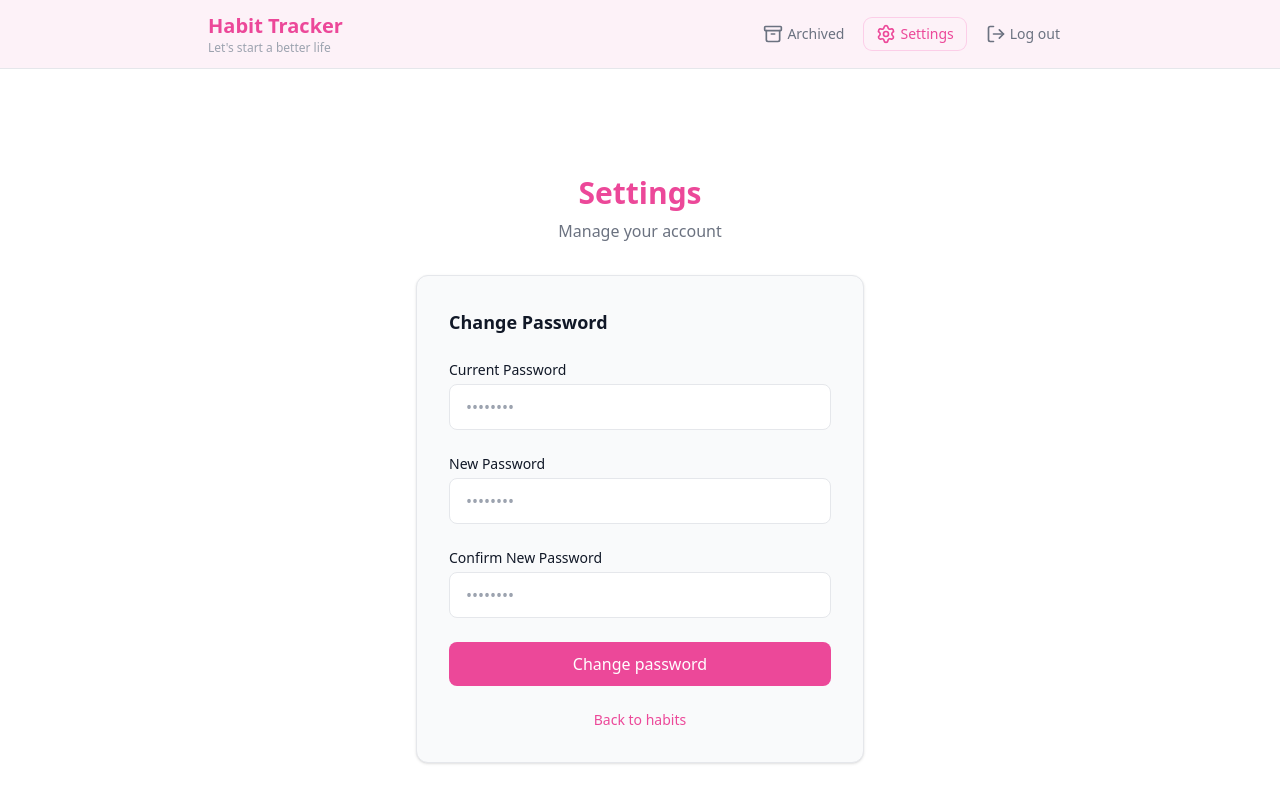
Test case: SettingsPage › shows current-password error on 401 INVALID_CURRENT_PASSWORD
Type "WrongPass1" into the password field labelled "Current Password" at coordinates (640, 407), box [449,384,831,430]
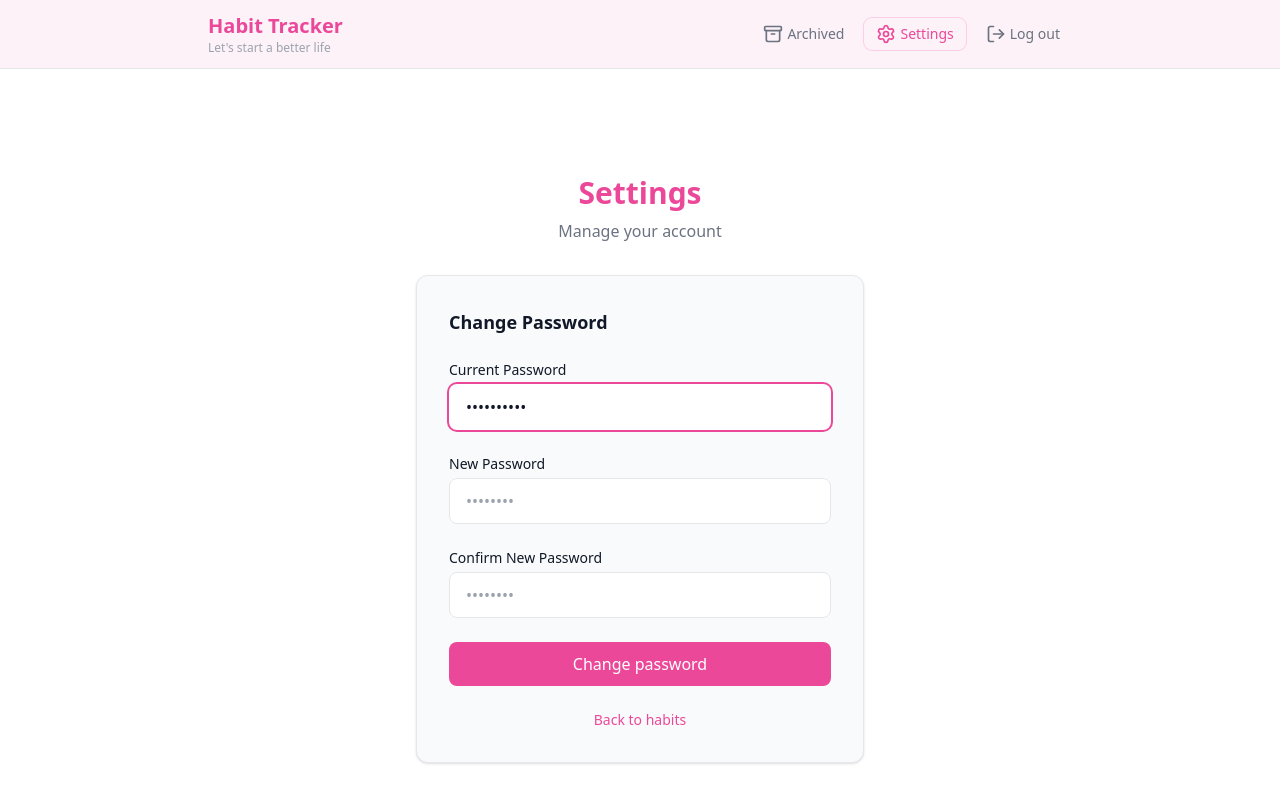
Type "NewSecure1" into the password field labelled "New Password" at coordinates (640, 501), box [449,478,831,524]
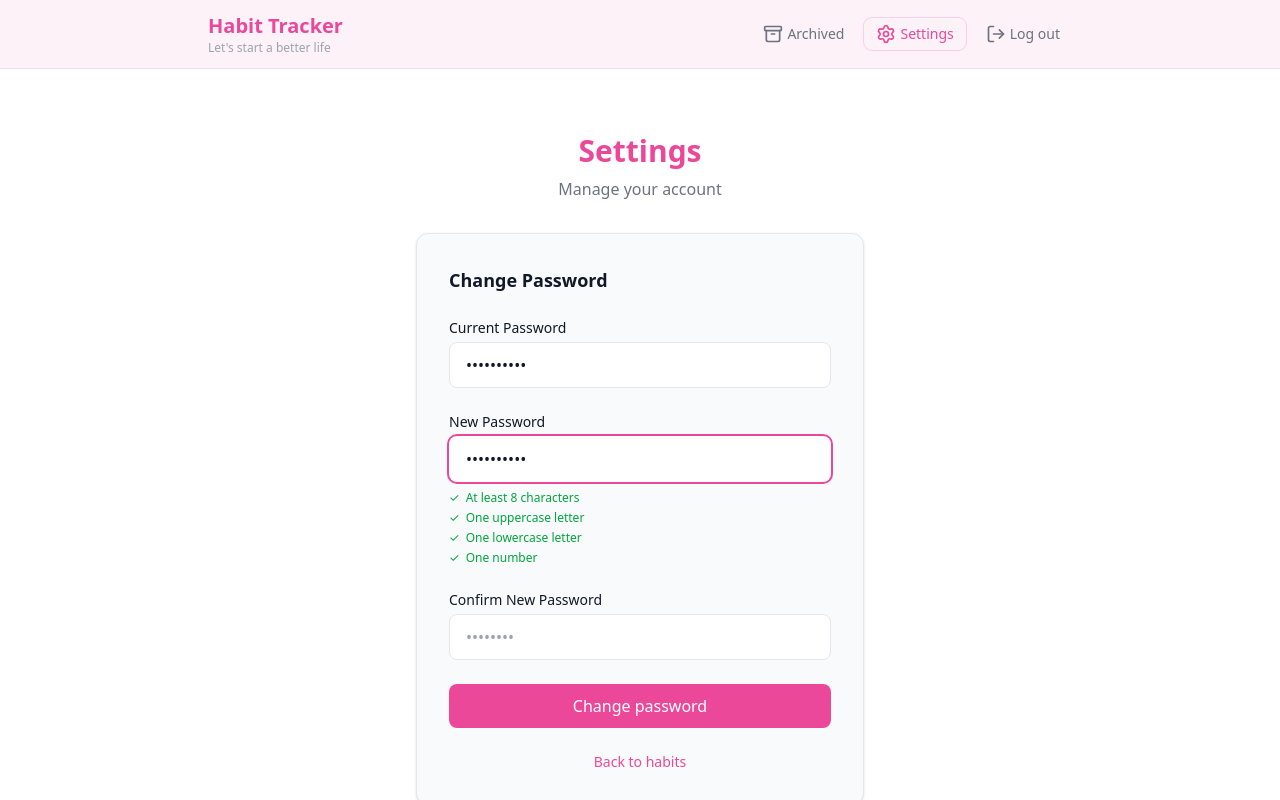
Type "NewSecure1" into the password field labelled "Confirm New Password" at coordinates (640, 637), box [449,614,831,660]
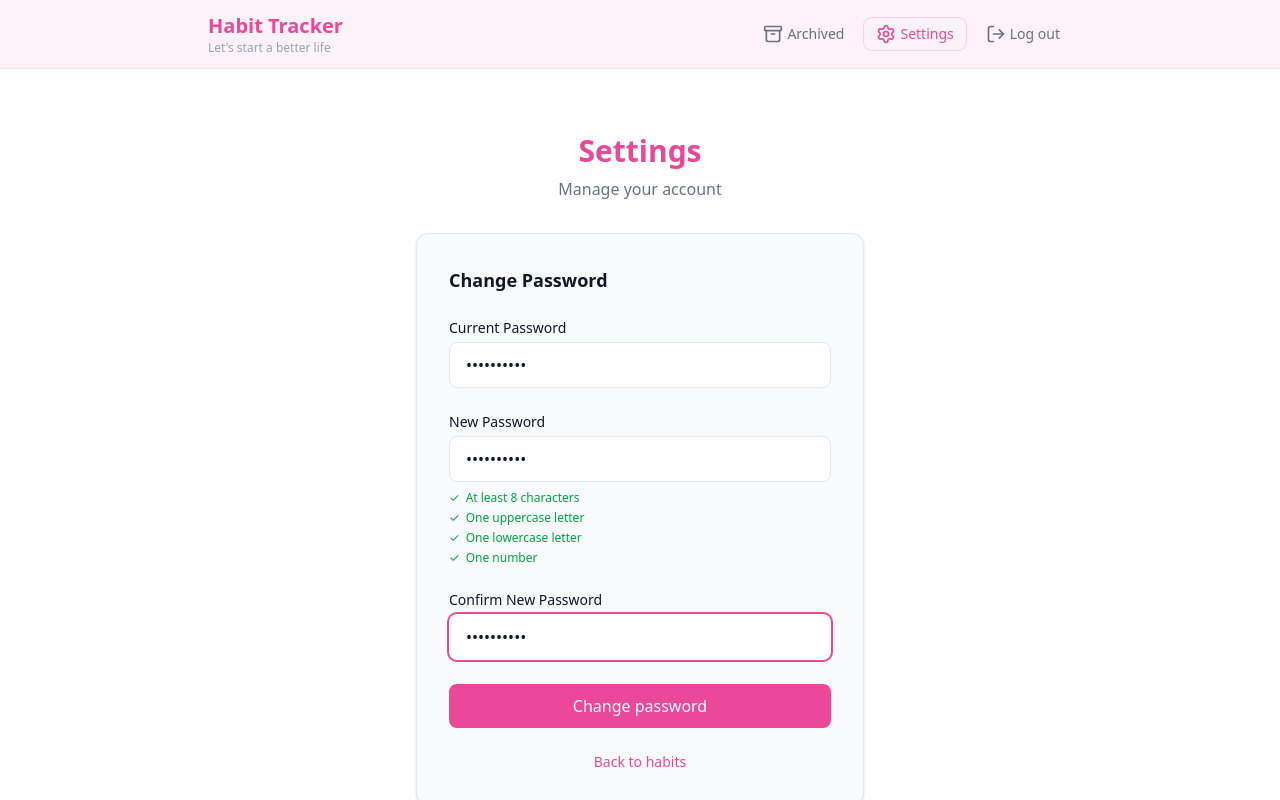
Click the button "Change password" at coordinates (640, 706), box [449,684,831,728]
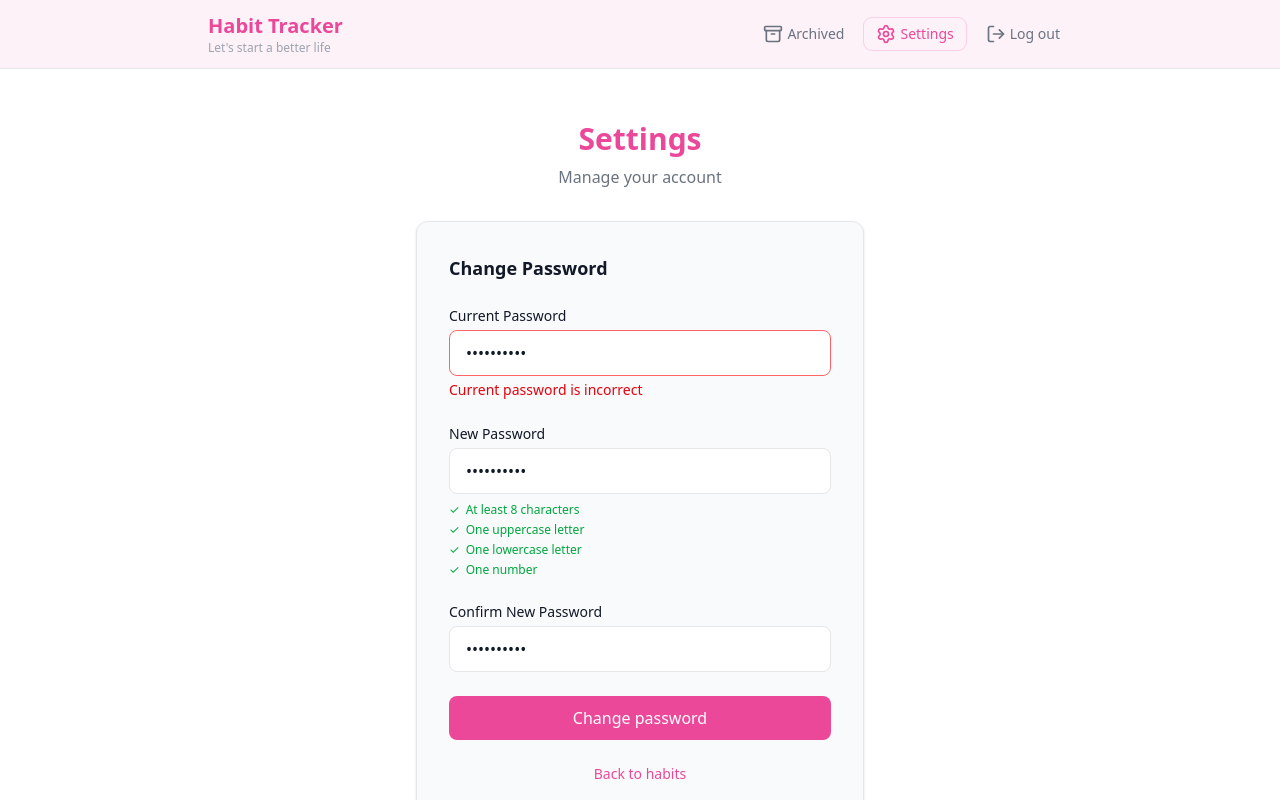
Result: the text "Current password is incorrect" is shown at [449,380,642,399]
